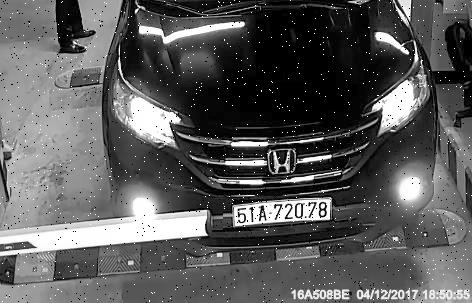License-plate: (225, 198, 337, 232)
